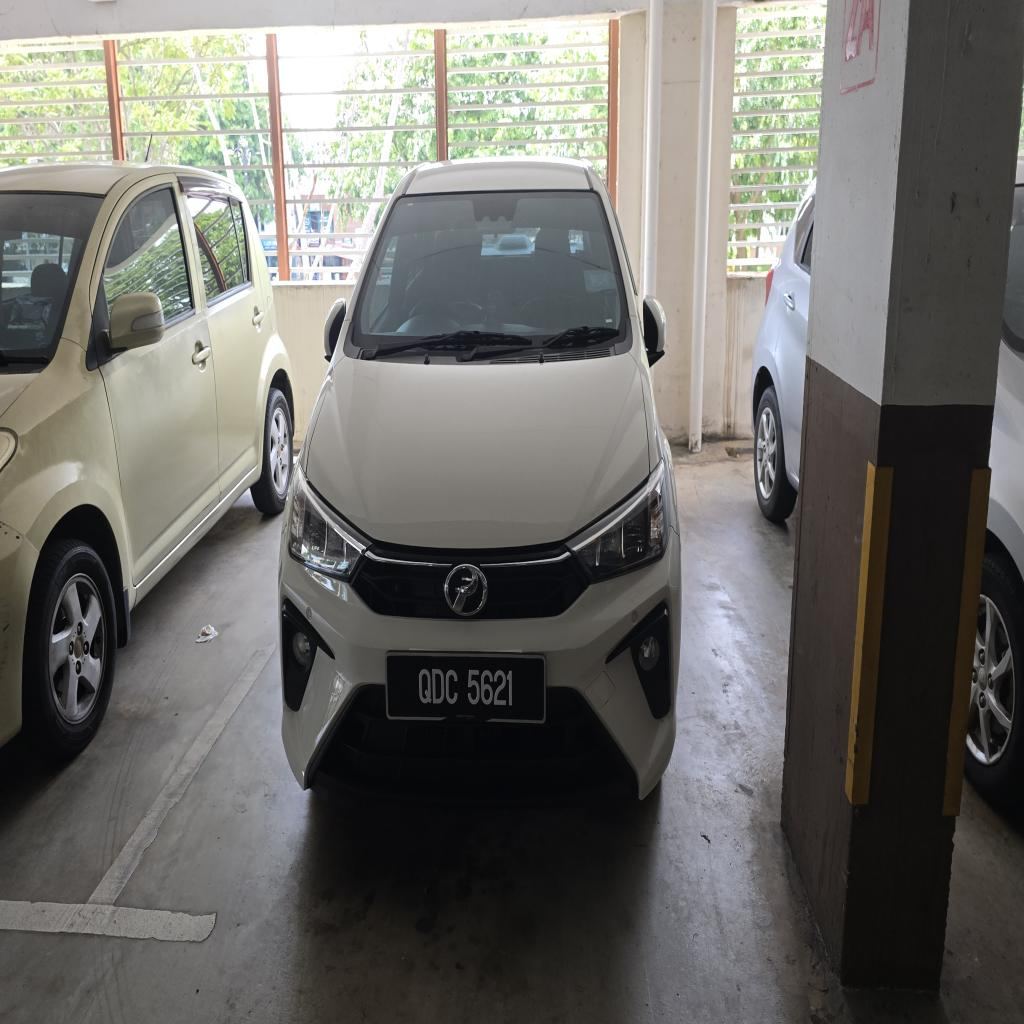car: (281, 159, 680, 797)
car plate: (386, 653, 545, 723)
